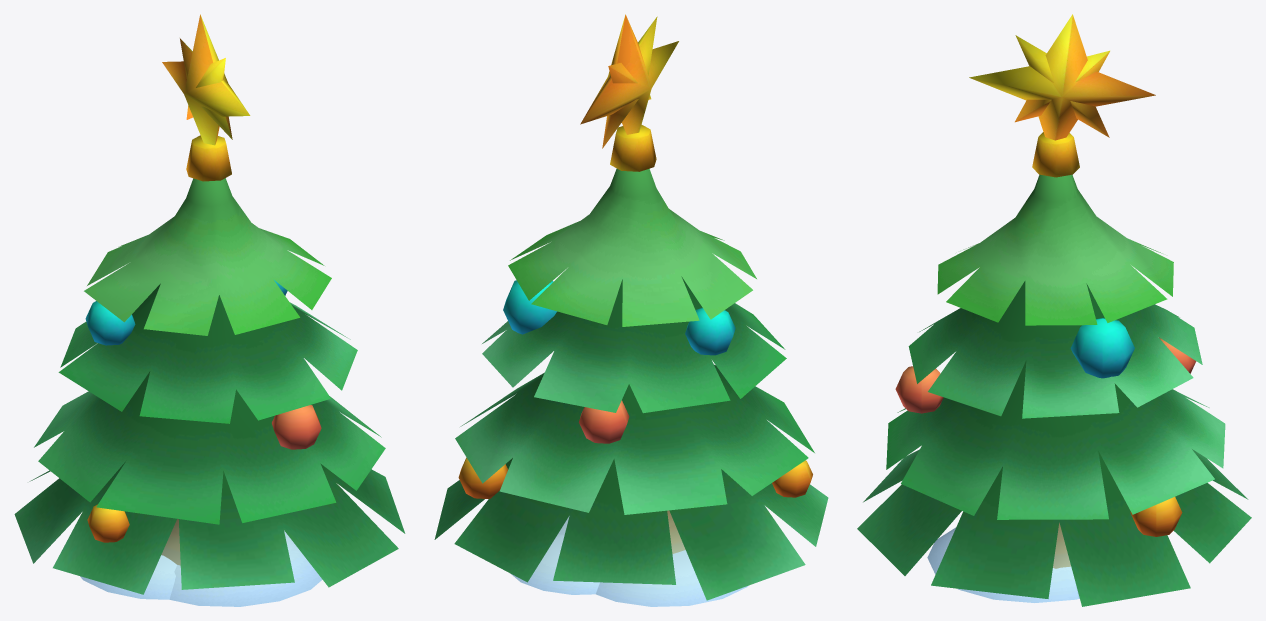
The model's file is FloorDecoXmas-001_02_08_8728.fbx.
3 views of the same model, side by side, from view 1: azimuth 30°, elevation 25°; view 2: azimuth 150°, elevation 25°; view 3: azimuth 270°, elevation 25° (orthographic).
Parts seen in each view (by area): view 1: Tree1; view 2: Tree1; view 3: Tree1.
Part boxes in pixels (x1,y1,x2,y2): Tree1: [14, 14, 405, 606]; Tree1: [434, 14, 828, 606]; Tree1: [857, 14, 1251, 606].
Size of the model in its own units: 2.33 by 3.45 by 2.29.
